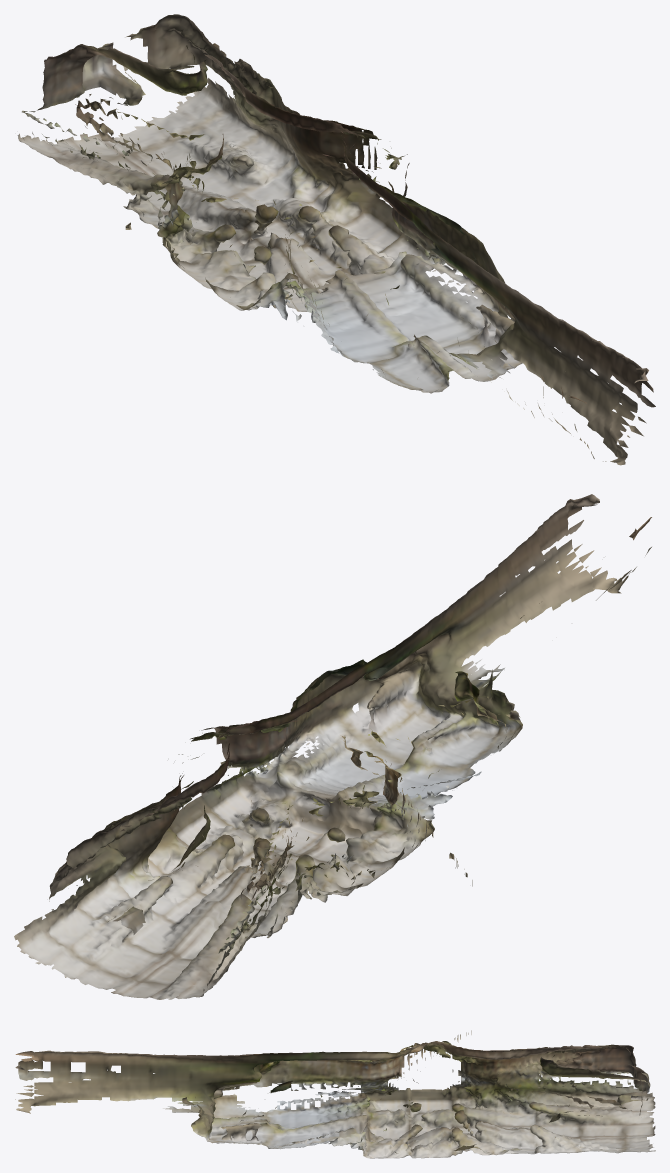
Rendered from world-1769851710787.glb.
The picture shows the model from 3 angles, top to bottom: view 1: azimuth 30°, elevation 25°; view 2: azimuth 150°, elevation 25°; view 3: azimuth 270°, elevation 25°; orthographic projection. The views are drawn at different scales.
Visible parts, largest first — view 1: world; view 2: world; view 3: world.
Part boxes in pixels (left/top/right/bottom): world: left=17, top=14, right=655, bottom=465; world: left=14, top=494, right=651, bottom=999; world: left=15, top=1030, right=655, bottom=1158.
Bounding box in the file's own units: 8.94 × 3.32 × 22.61.
